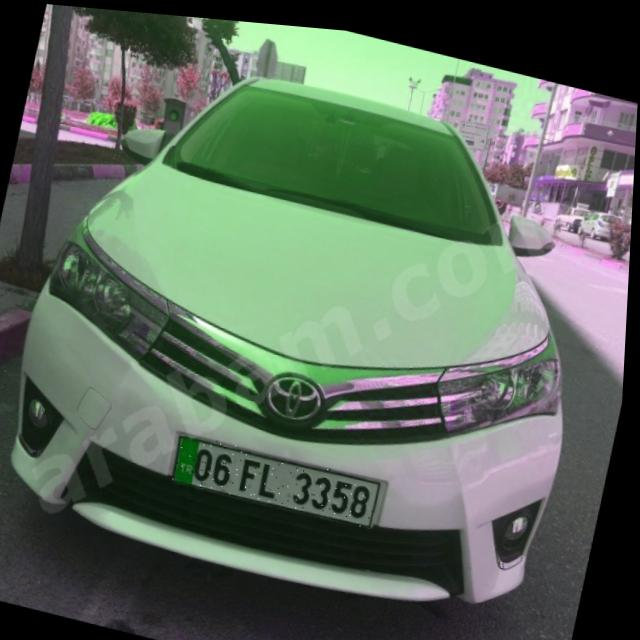license_plate: (174, 428, 388, 522)
